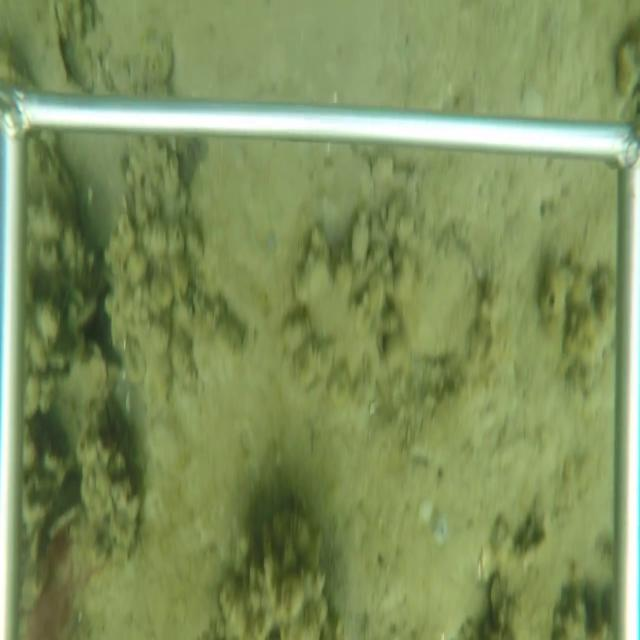Oyster-Indeterminate: (394, 217, 485, 364)
